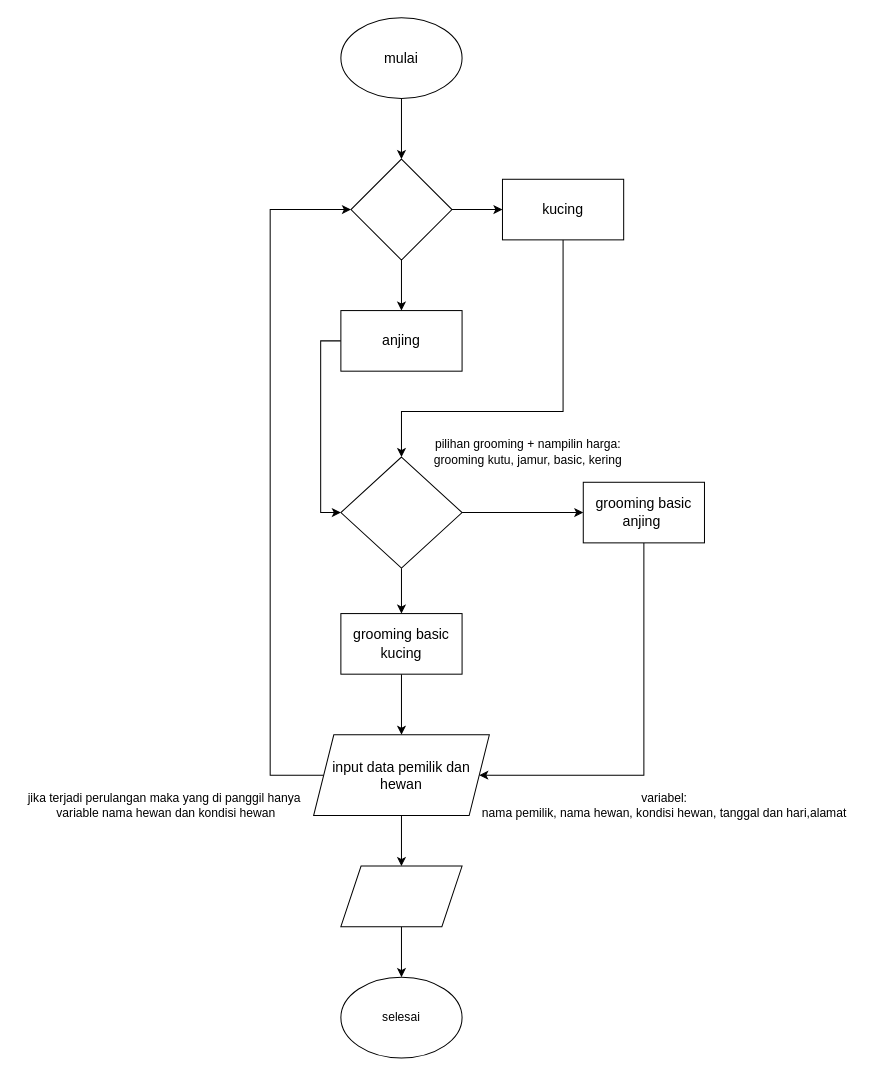
The diagram is 873 pixels wide and 1076 high, and some of its shapes have lost their labels. Here are the shapes that lost their labels. From the top down, the centre of each, then its label:
(401,209): pilih jenis hewan
(401,512): pilihan jenis grooming
(401,896): cetak struk
